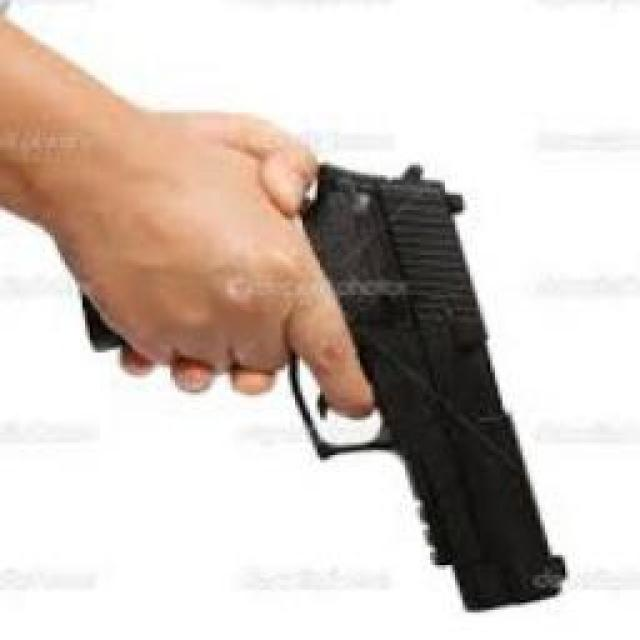pistol: (67, 150, 565, 611)
